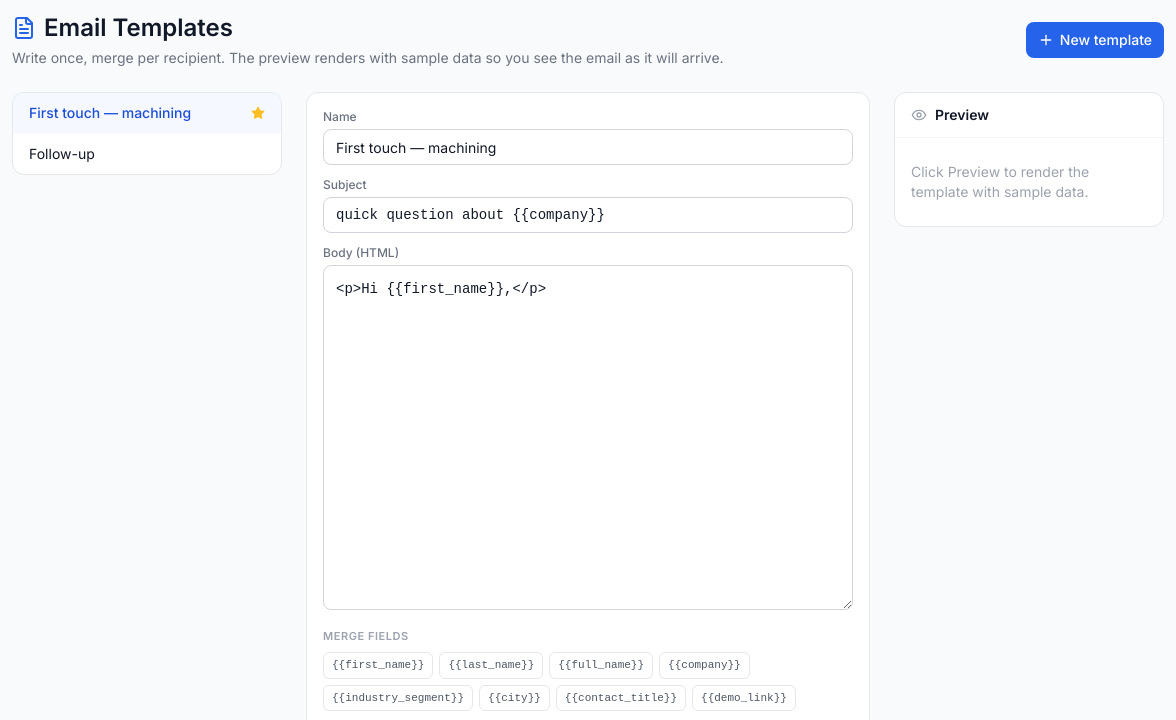
EmailTemplates › switches templates from the list
Step 1. Click the button "Follow-up" → (62, 154), box [13,134,281,174]
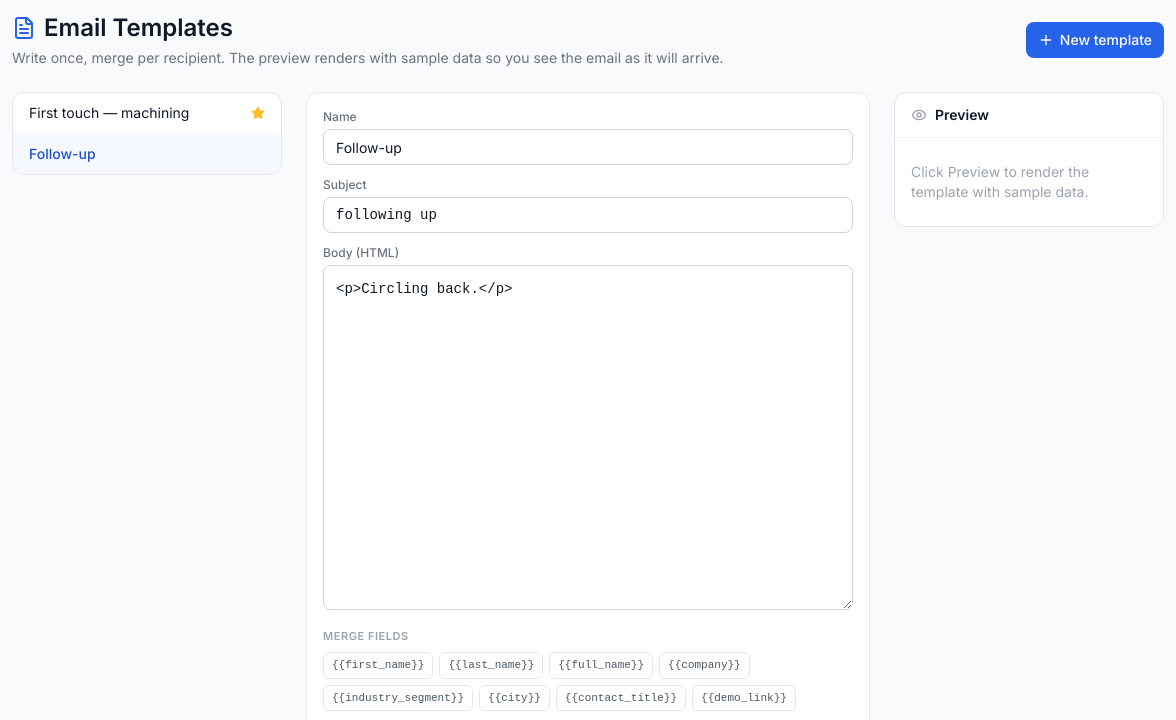
Now the field labelled "Name" holds "Follow-up", box [323,129,853,165]
